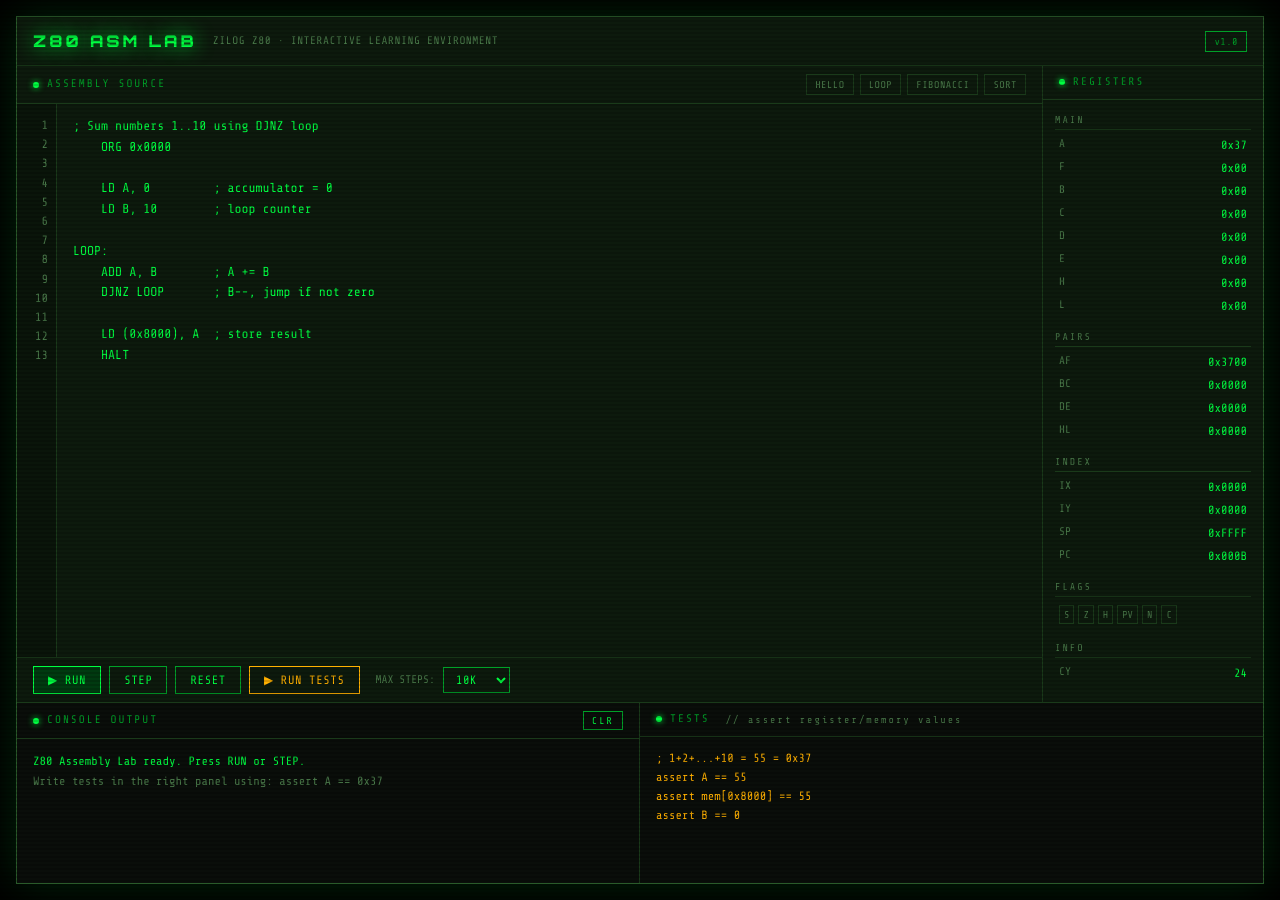
Test: App - RUN TESTS button › shows PASS lines for loop example assertions
Click the button "▶ RUN TESTS" at (304, 680), box [249, 666, 360, 694]
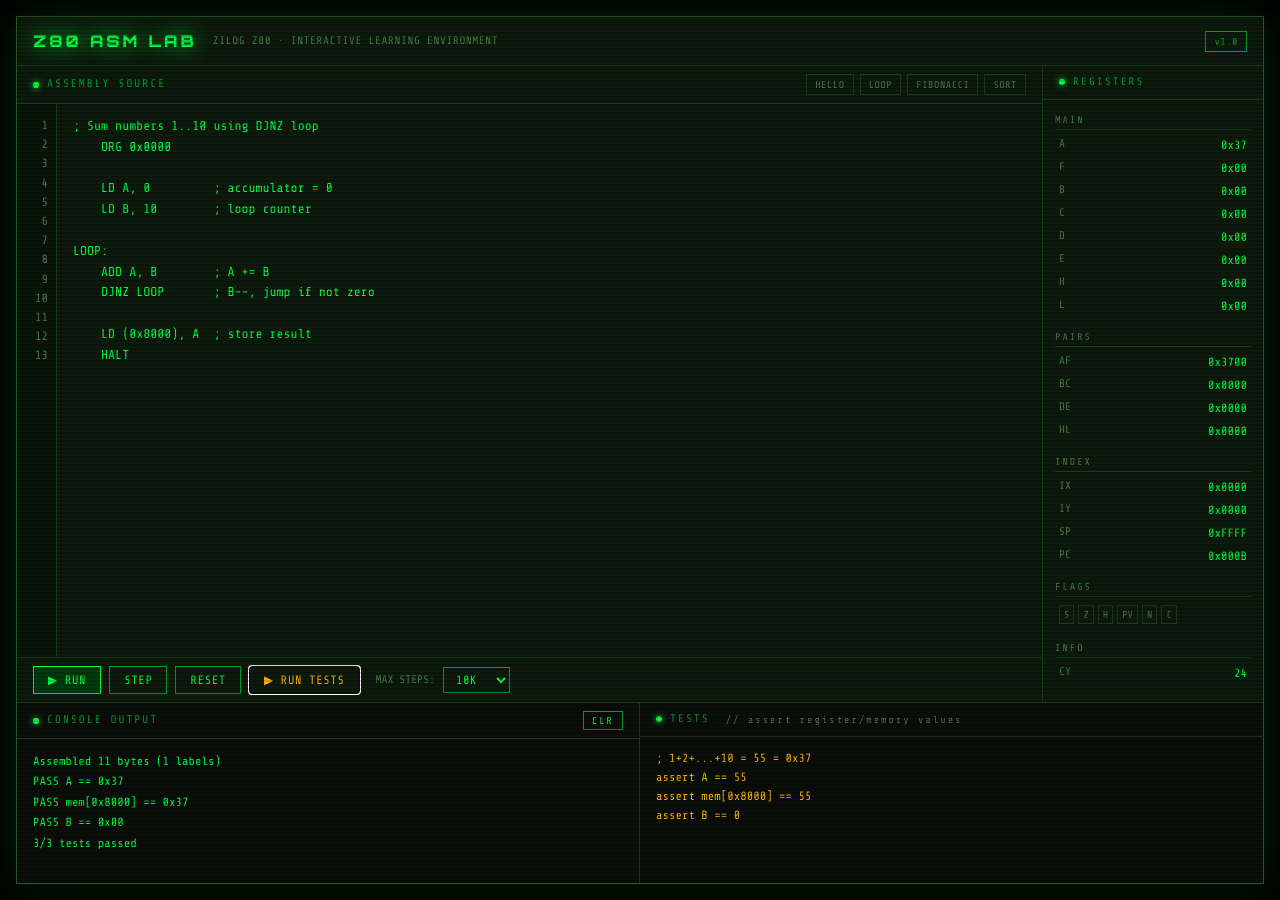
Result: the text "PASS A == 0x37" is shown at [33, 774, 124, 788]
